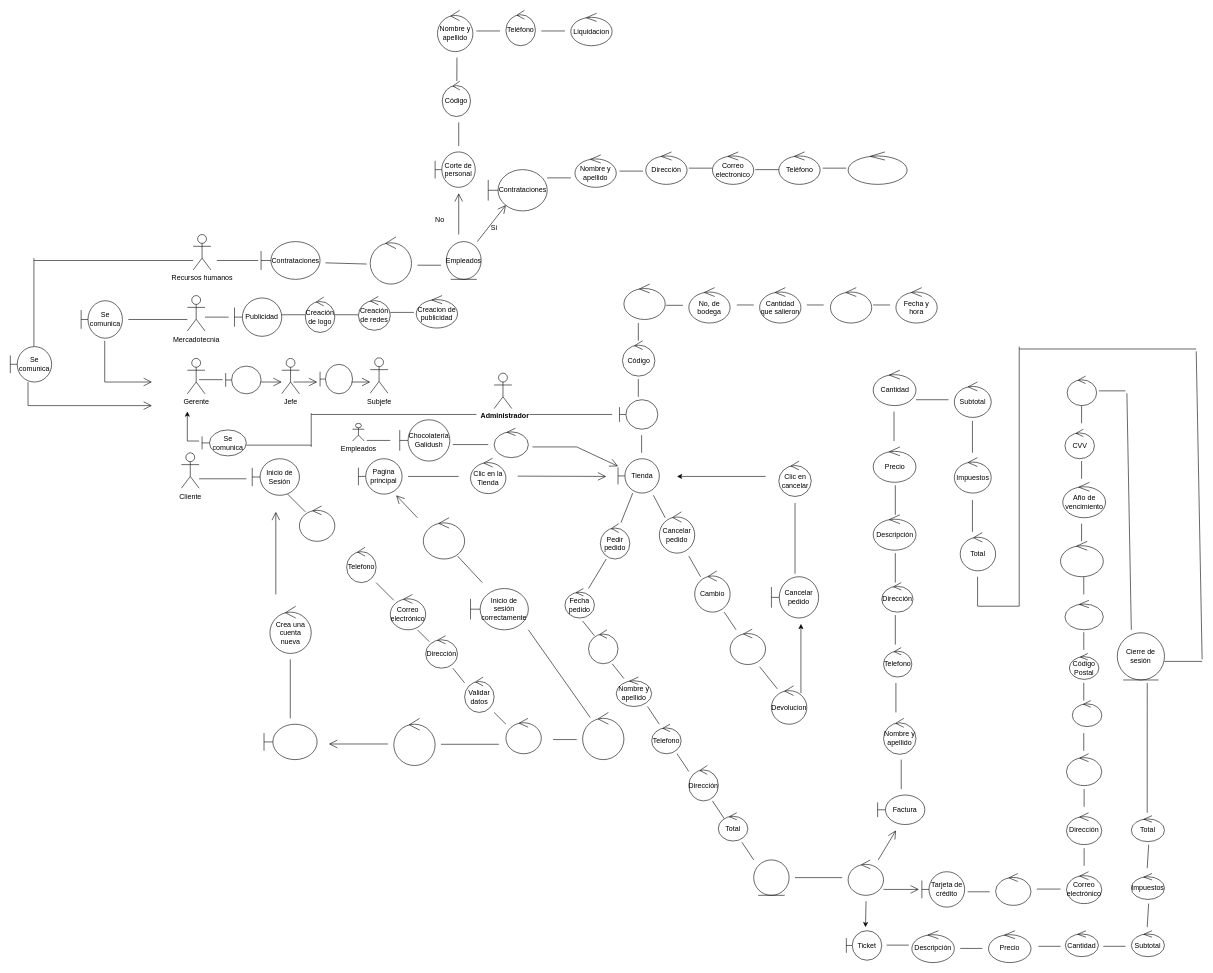
Some shapes in this 1213 by 973 pixel diagram are drawn without their labels. The shapes that lost their labels are listed below. From the top down, each one's centre as x and y in pixels, then its label:
At [877,167]: "Carta de recomendacion".
At [391,260]: "Empleo".
At [644,301]: "Descripción del producto".
At [851,305]: "Cantidad que entraron".
At [243,380]: "Se contacta".
At [336,379]: "Se apoya".
At [1082,391]: "Pagar".
At [638,414]: "Inventario".
At [511,443]: "Productos".
At [317,523]: "Nombre de usuario".
At [444,538]: "Clic en aceptar".
At [1081,559]: "Mes de vencimiento".
At [1083,615]: "Nombre de la tarjeta".
At [603,646]: "Fecha de entrega".
At [748,647]: "Reembolso".
At [1087,713]: "Estado".
At [290,742]: "Mensaje de error de acceso".
At [414,742]: "Cuenta incorrecta".
At [523,736]: "Cuenta".
At [603,736]: "Cuenta correcta".
At [1084,769]: "Ciudad".
At [771,877]: "Forma de pago".
At [866,877]: "Pago".
At [1013,889]: "Nombre completo".
